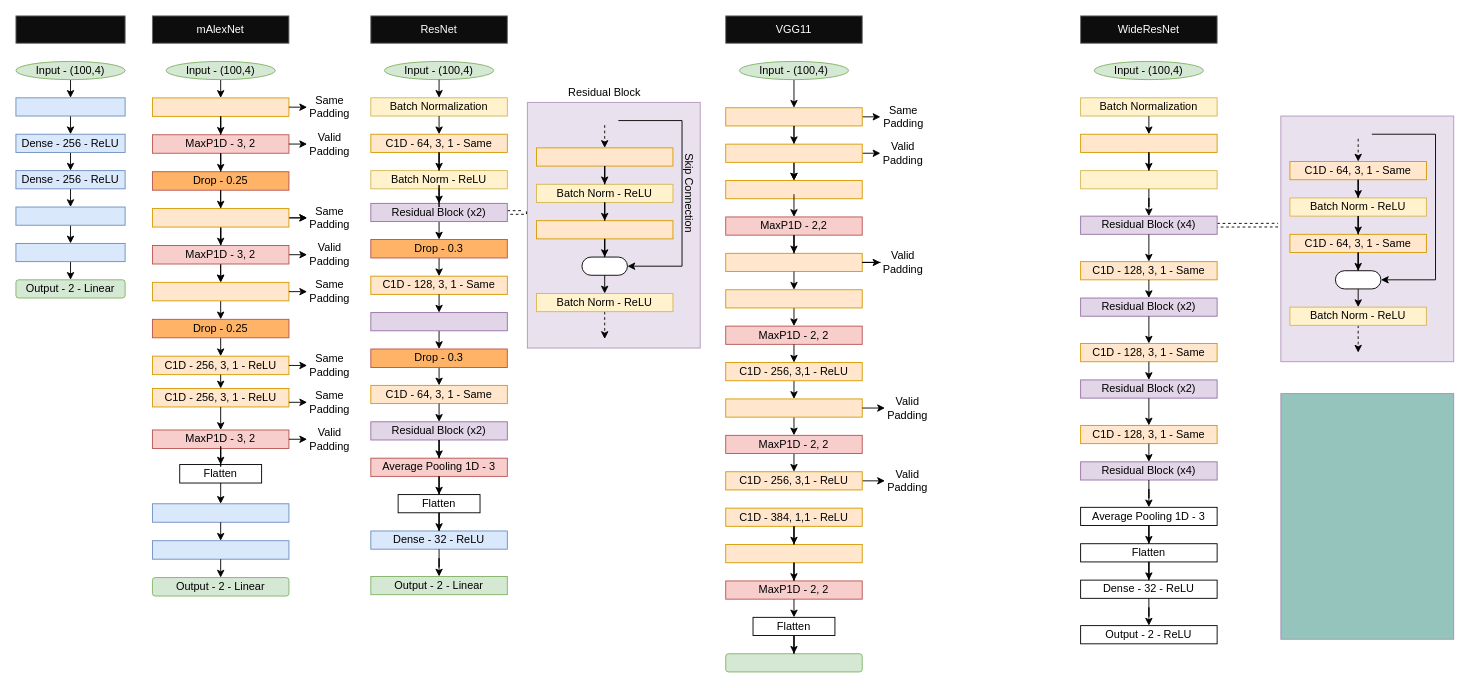
Some shapes in this 1470 by 688 pixel diagram are drawn without their labels. Each missing label, with the box of its shape:
(+) Add: (581, 256, 627, 275)
Add: (1335, 270, 1381, 289)
C1D - 100, 1,1 - ReLU: (725, 544, 862, 563)
C1D - 128, 1,1 - ReLU: (725, 289, 862, 308)
C1D - 128, 3,1 - ReLU: (725, 252, 862, 272)
C1D - 256, 1,1 - ReLU: (725, 398, 862, 417)
C1D - 256, 5, 1 - ReLU: (152, 208, 289, 227)
C1D - 384, 3, 1 - ReLU: (152, 281, 289, 301)
C1D - 512, 3, 1 - Same: (1080, 133, 1217, 152)
C1D - 64, 1,1 - ReLU: (725, 180, 862, 199)
C1D - 64, 3,1 - ReLU: (725, 143, 862, 162)
C1D - 64, 3,2 - ReLU: (725, 107, 862, 126)
C1D - 96, 5, 4 - ReLU: (152, 97, 289, 116)
C1D - filters, 3, 1 - Same: (536, 220, 673, 239)
C1D -filters, 3, 1 - Same: (536, 147, 673, 166)
ConvBlock: (1080, 170, 1217, 189)
Dense - 12 - ReLU: (15, 243, 125, 262)
Dense - 128- ReLU: (152, 503, 289, 522)
Dense - 512 - ReLU: (15, 97, 125, 116)
Dense - 64- ReLU: (152, 540, 289, 559)
Dense - 96 - ReLU: (15, 206, 125, 225)
FC Output - 2, Linear: (725, 653, 862, 672)
FFNN - 5: (15, 15, 125, 43)
Residual Block (x1): (370, 312, 507, 331)
